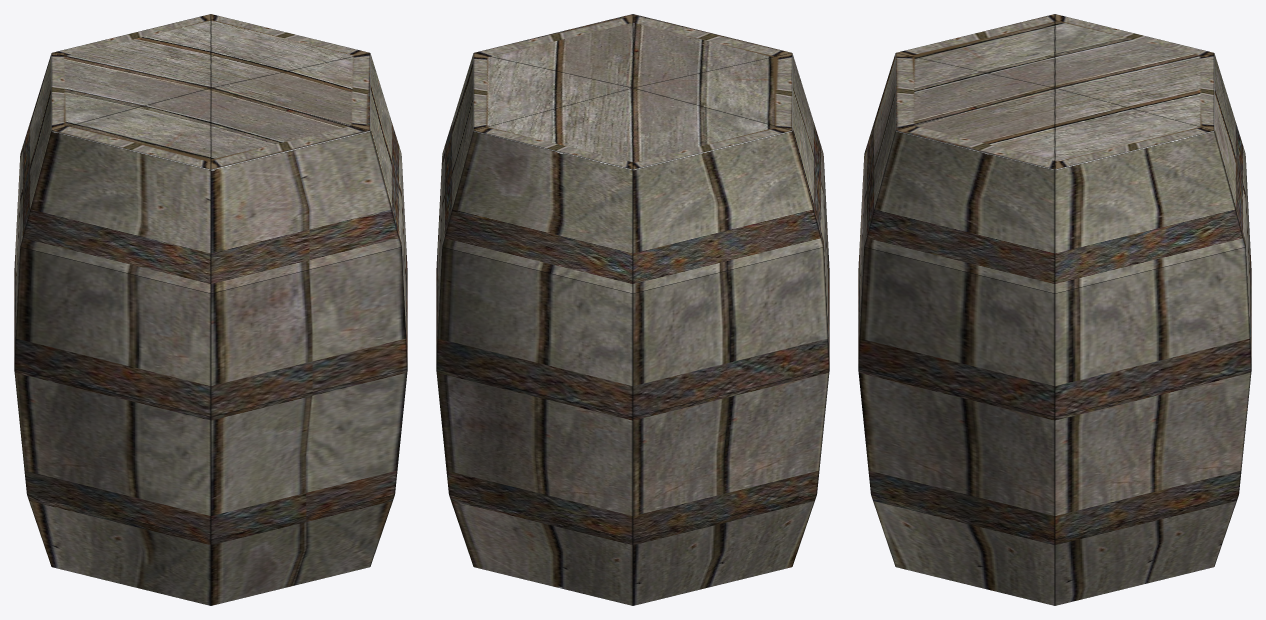
Rendered from Prop_SM_Barrel_1.fbx.
The picture shows the model from 3 angles, left to right: view 1: azimuth 30°, elevation 25°; view 2: azimuth 150°, elevation 25°; view 3: azimuth 270°, elevation 25°; orthographic projection.
Visible parts, largest first — view 1: Barrel_SM_1; view 2: Barrel_SM_1; view 3: Barrel_SM_1.
Part boxes in pixels (x1=…): Barrel_SM_1: x1=14, y1=14, x2=407, y2=605; Barrel_SM_1: x1=436, y1=14, x2=829, y2=605; Barrel_SM_1: x1=858, y1=14, x2=1251, y2=605.
Bounding box in the file's own units: 0.9426 × 1.02 × 0.8163.
1 material, 1 textured.
